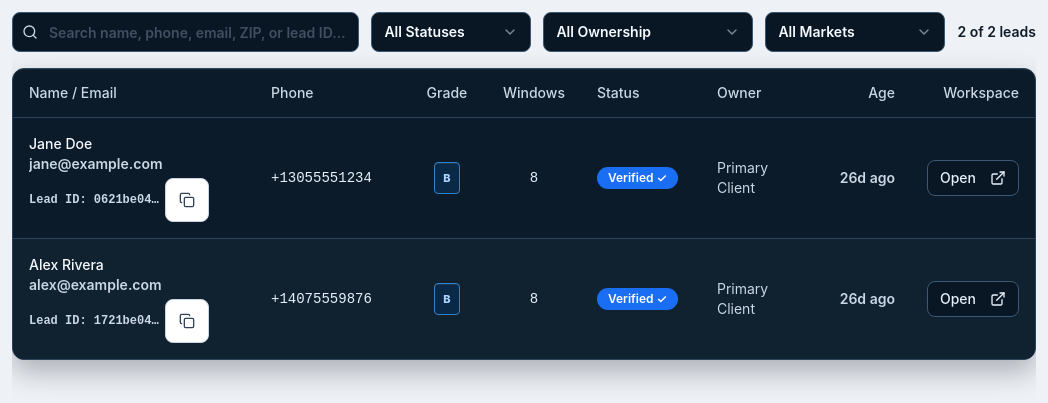
Scenario: ActivePipeline lead search and links › searches live leads by jane@example.com
Type "jane@example.com" into the field named "Search pipeline leads". click: [186, 32]
box: [12,12,359,52]
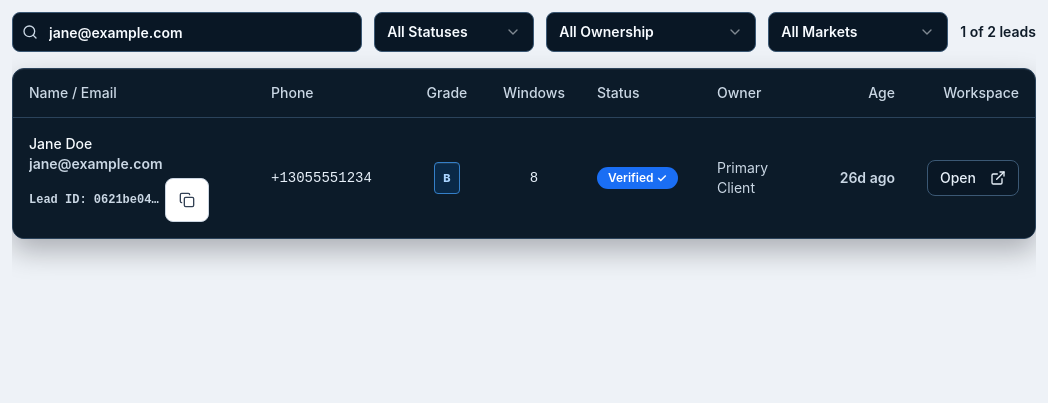
Expected: the text "Jane Doe" is shown, [29,134,92,152]
Now the text "Alex Rivera" is gone
